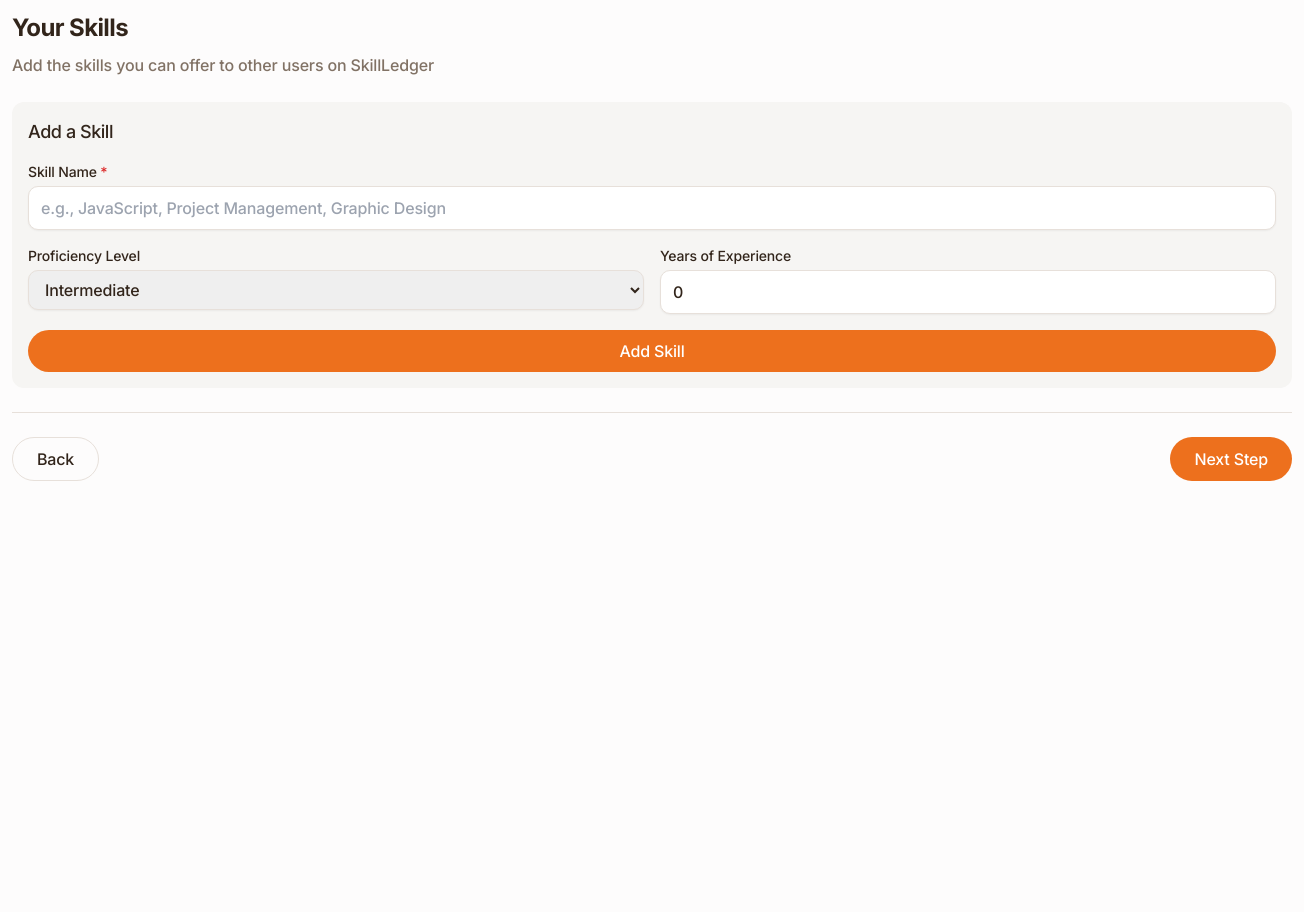
Test: Step2SkillSelection › adds a skill to the list
Type "JavaScript" into the field labelled "Skill Name *". click: (652,208)
box: [28,186,1276,230]
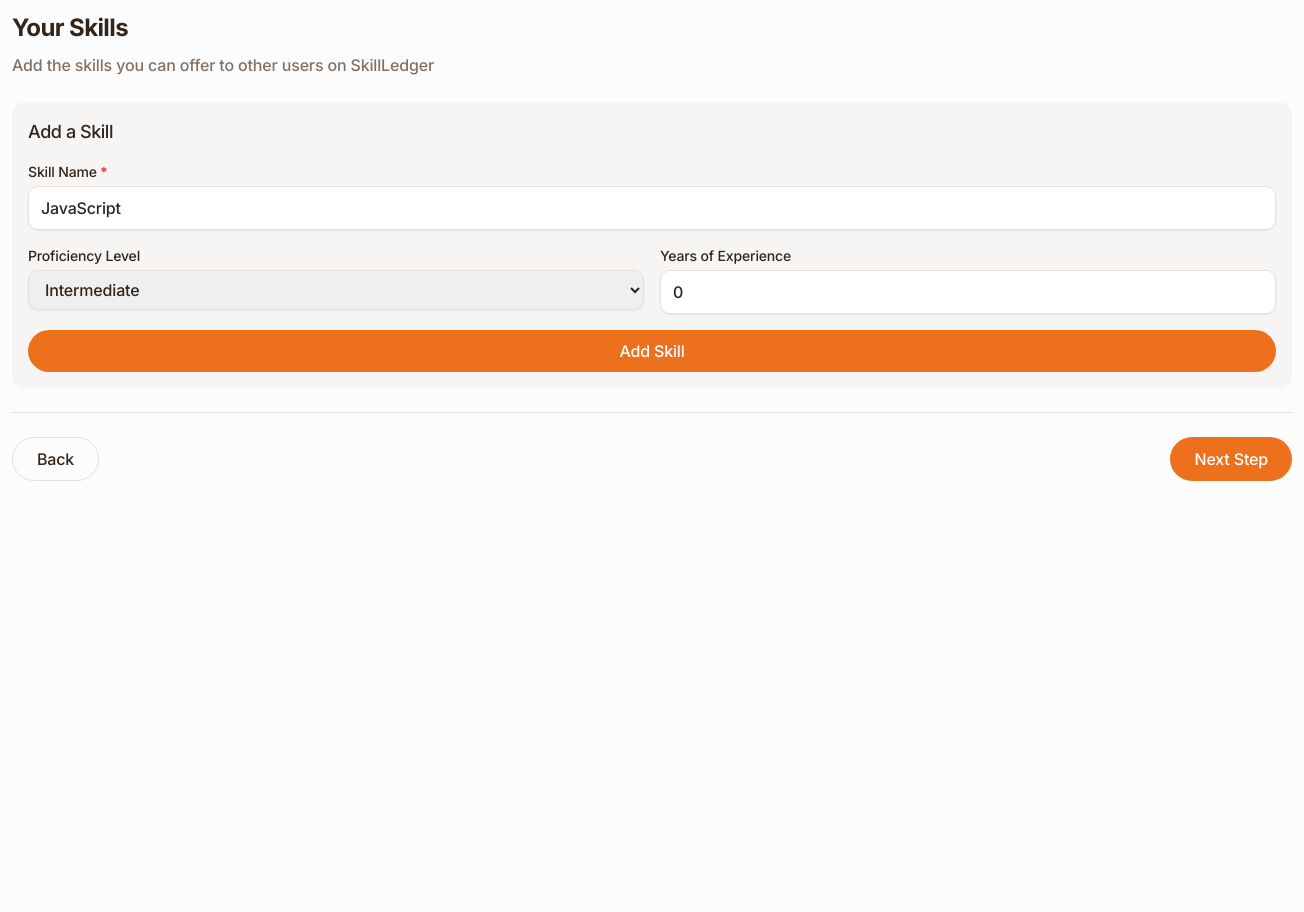
Click the button "Add Skill". click: (652,351)
box: [28,330,1276,372]
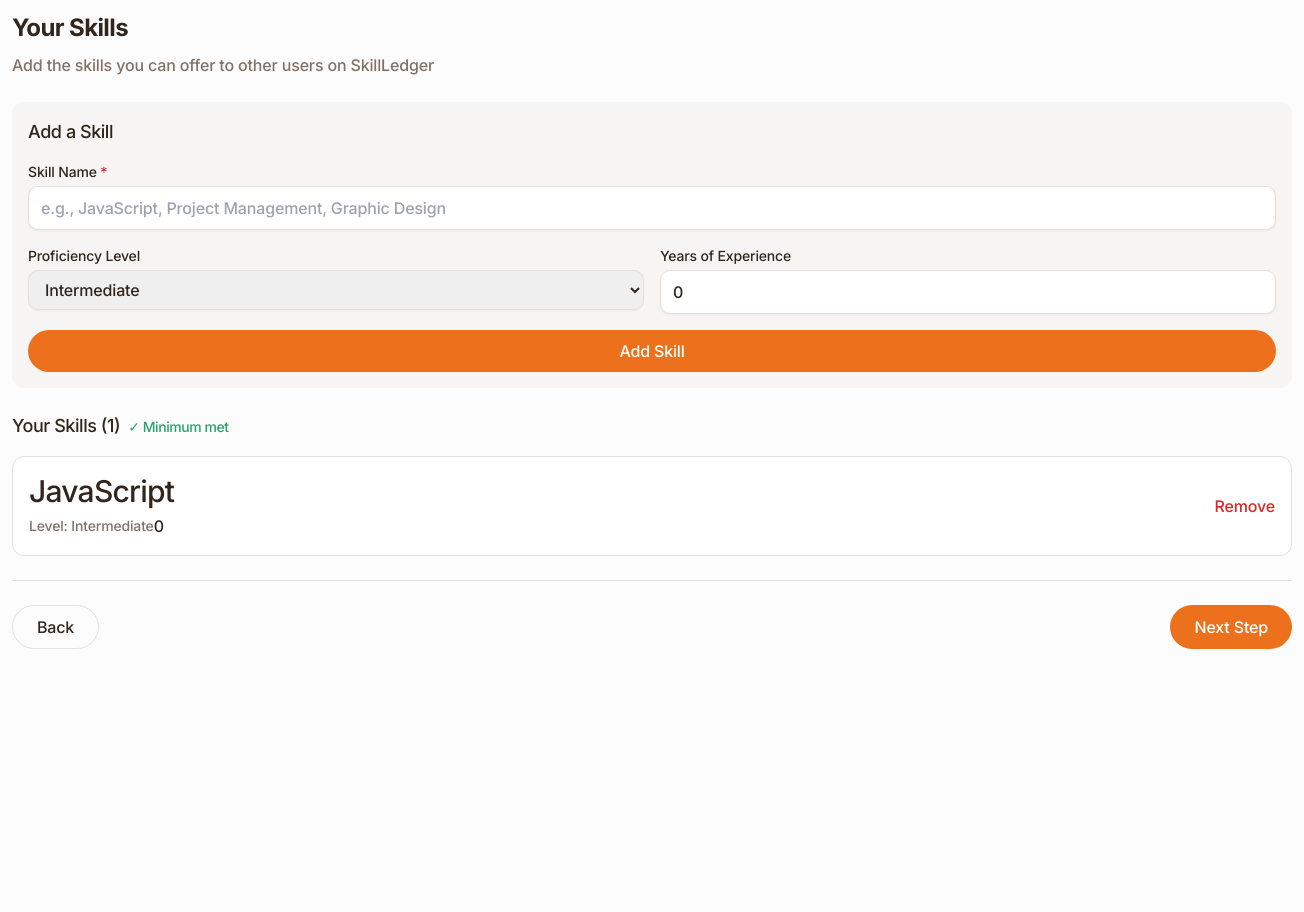
expect the heading "JavaScript" is shown: met, box [29,473,174,509]
